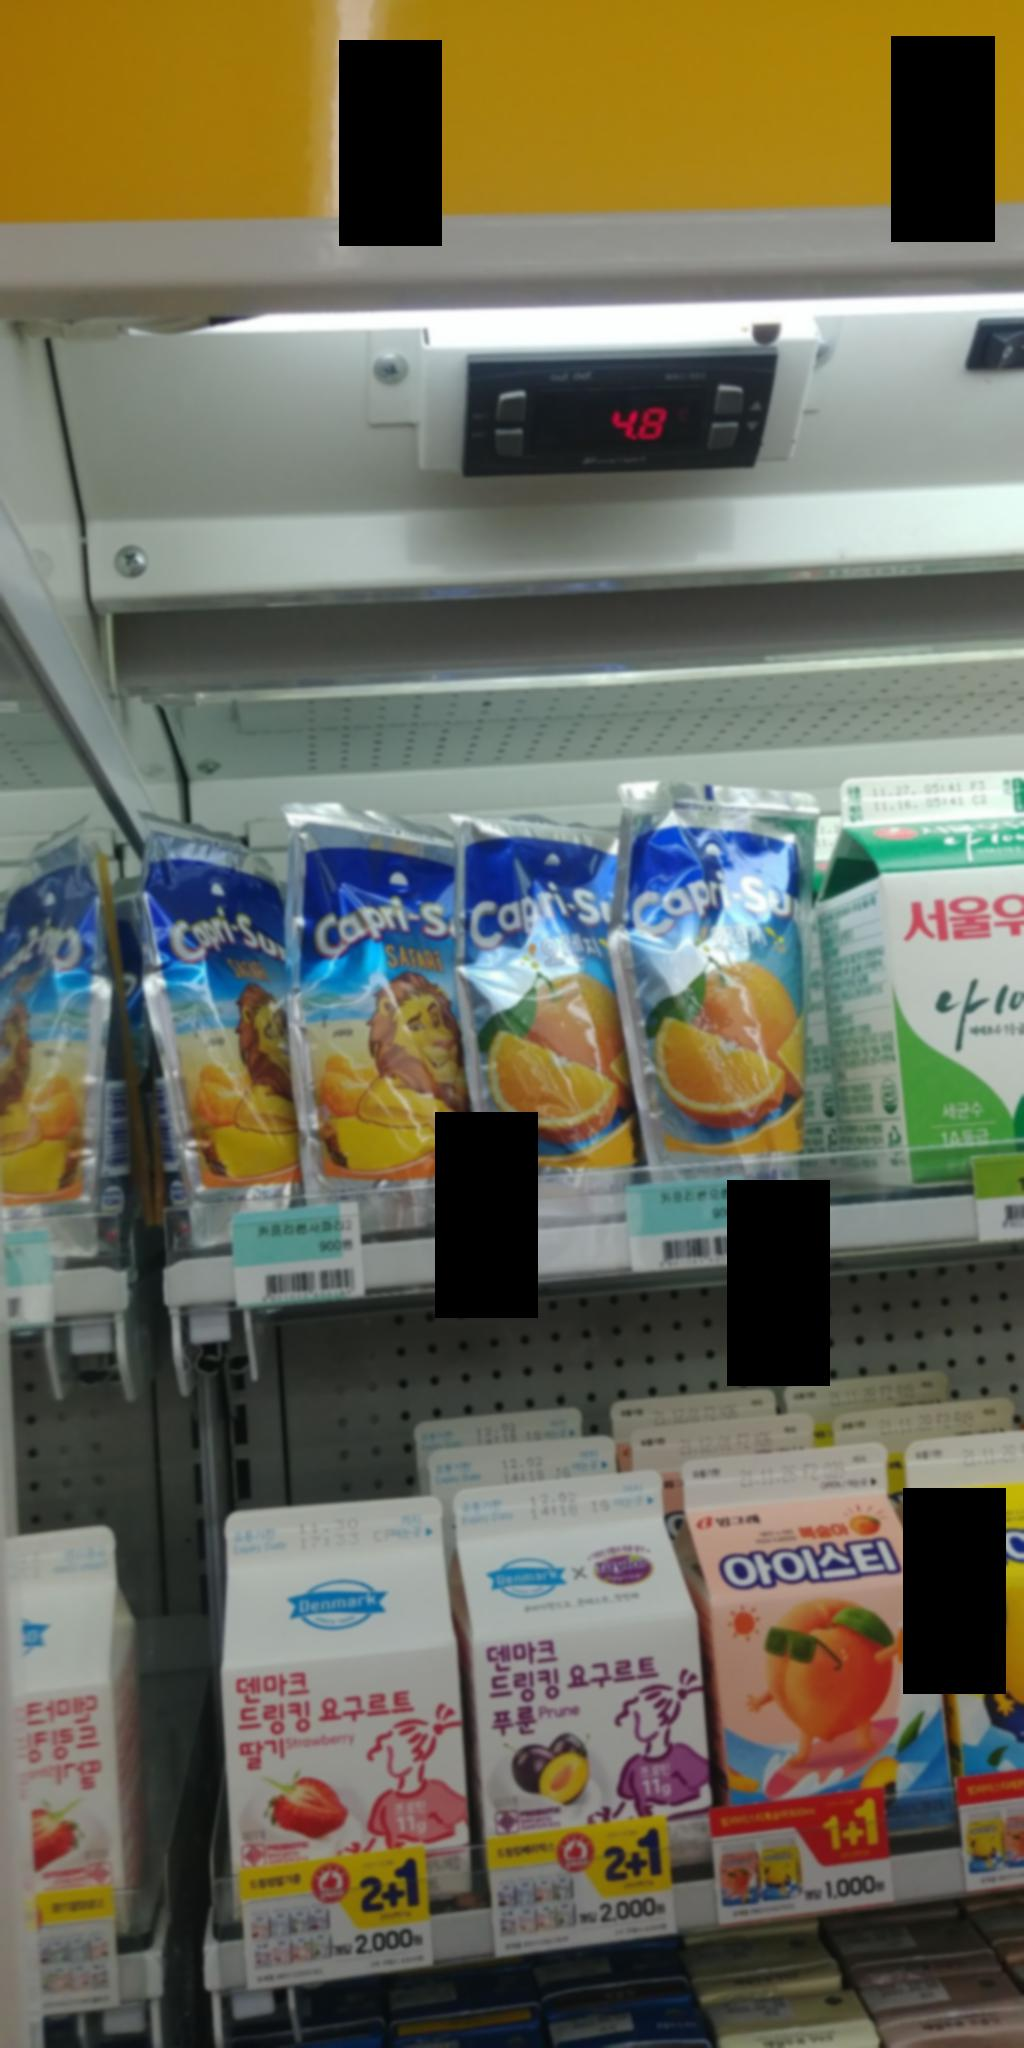cafrisun: (606, 763, 819, 1198), (439, 805, 652, 1223)
